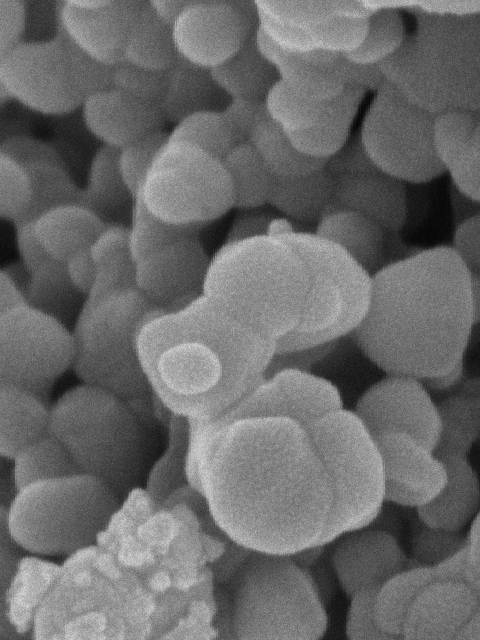nano: (154, 341, 229, 398)
